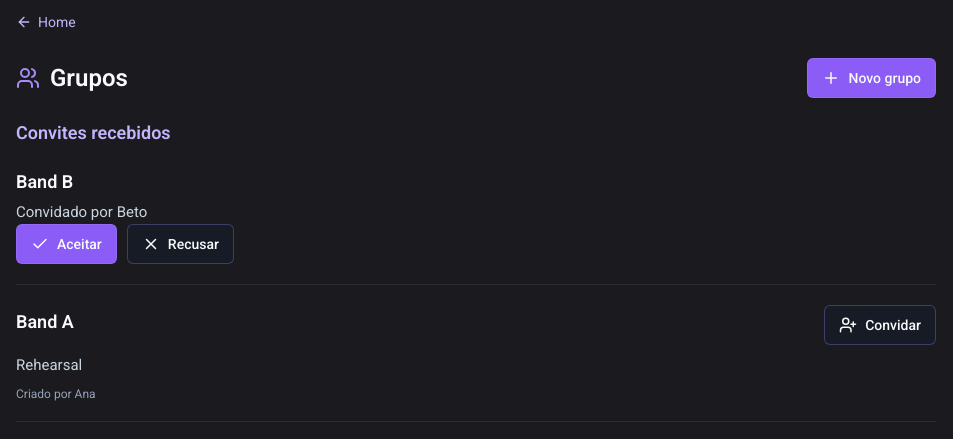
Test: responds to an invitation and refreshes groups when accept=true
Click the button "Aceitar" at [66, 244], box 16,224 -> 117,264
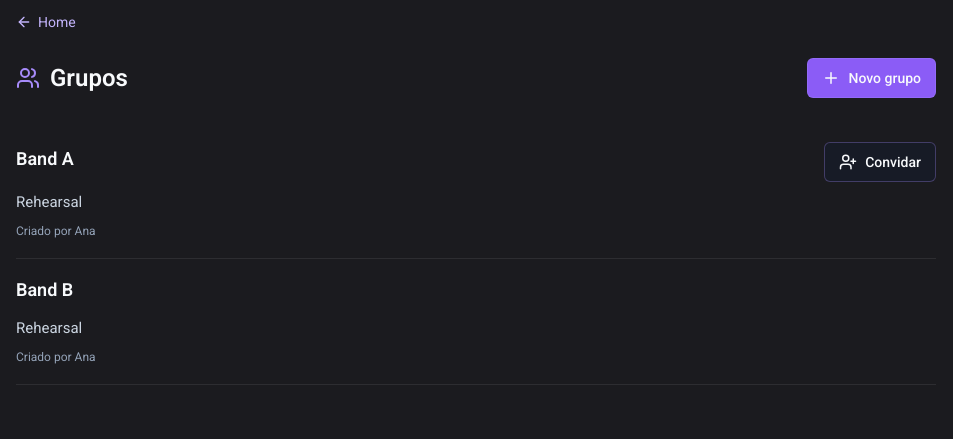
Check: the heading "Convites recebidos" is gone
Check: the heading "Band B" is shown, box 16,279 -> 73,300
